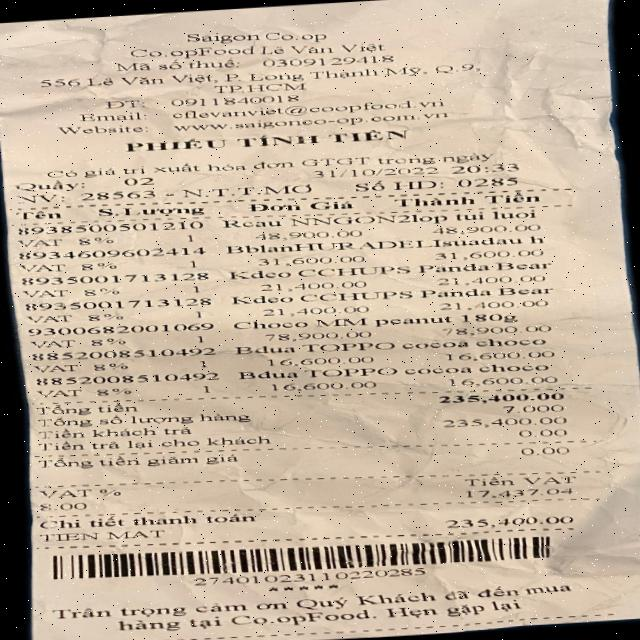Date: (294, 161, 456, 185)
Store_Name: (137, 18, 394, 54)
amount_number: (426, 388, 573, 408)
label_total: (31, 399, 148, 418)
